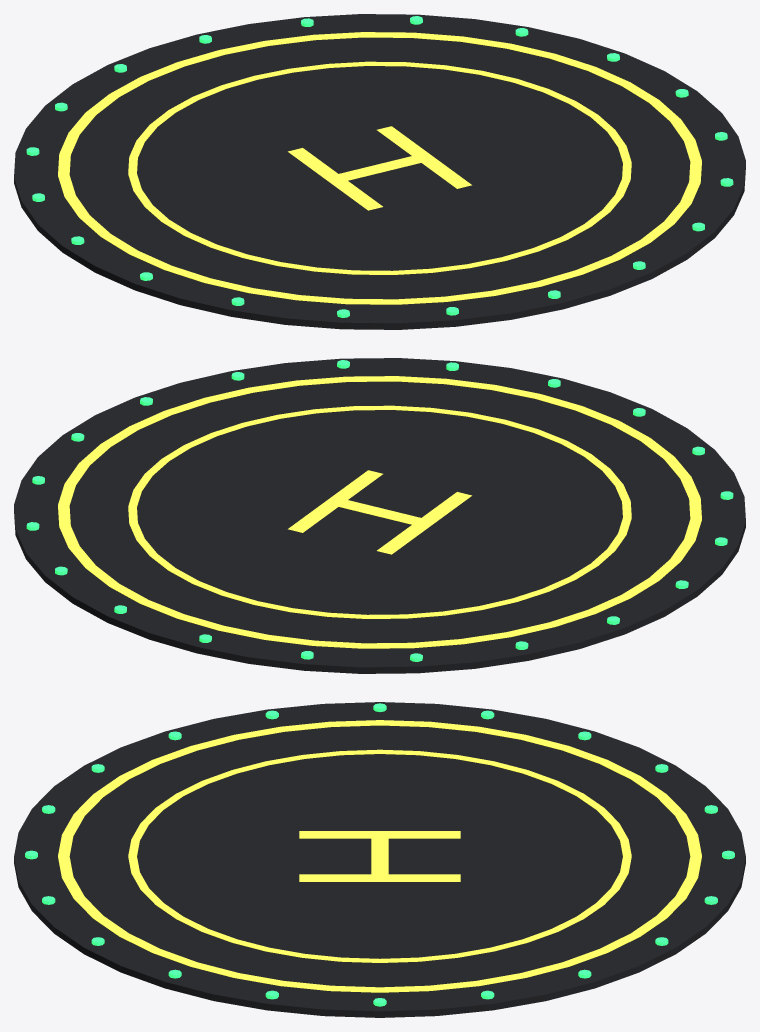
File: helipad.glb
3 renders of one model, top to bottom at view 1: azimuth 30°, elevation 25°; view 2: azimuth 150°, elevation 25°; view 3: azimuth 270°, elevation 25°, orthographic.
Parts seen in each view (by area): view 1: helipad; view 2: helipad; view 3: helipad.
Part boxes in pixels (bbox=[...]): helipad: bbox=[14, 14, 745, 329]; helipad: bbox=[14, 358, 745, 673]; helipad: bbox=[14, 702, 745, 1017].
Size of the model in its own units: 5 by 0.075 by 5.
